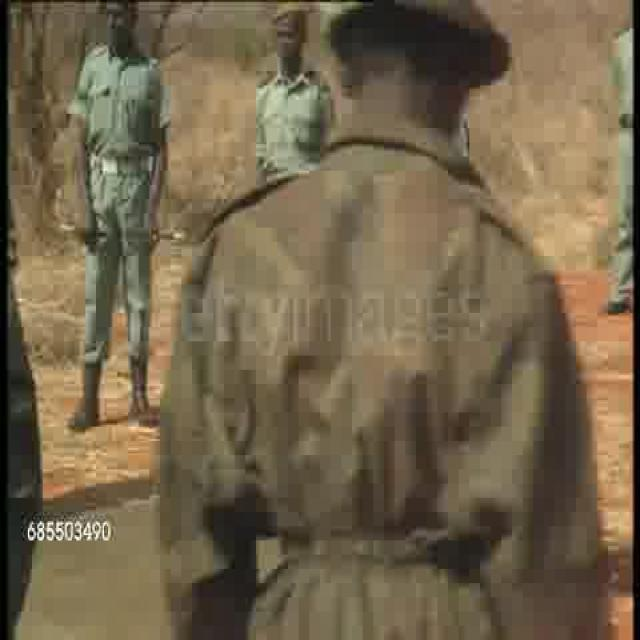poacher: (149, 1, 604, 638), (78, 2, 166, 430), (244, 6, 323, 190)
